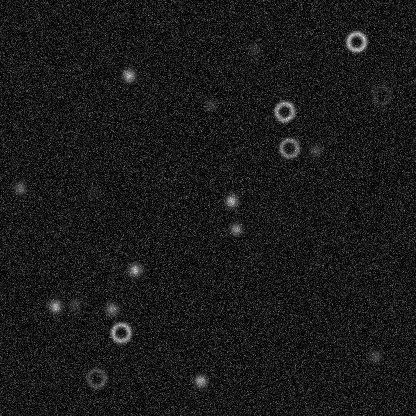Ring: (369, 83, 393, 107), (276, 135, 300, 159), (84, 365, 108, 389), (272, 99, 296, 123), (344, 29, 368, 53), (108, 320, 132, 344)
Spot: (227, 220, 243, 236), (223, 192, 239, 208), (192, 372, 208, 388), (85, 184, 101, 200), (366, 348, 382, 364), (120, 67, 136, 83), (11, 180, 27, 196), (202, 96, 218, 112), (47, 298, 63, 314), (103, 300, 119, 316), (245, 41, 261, 57), (307, 142, 323, 158), (126, 262, 142, 278), (67, 295, 83, 311)
